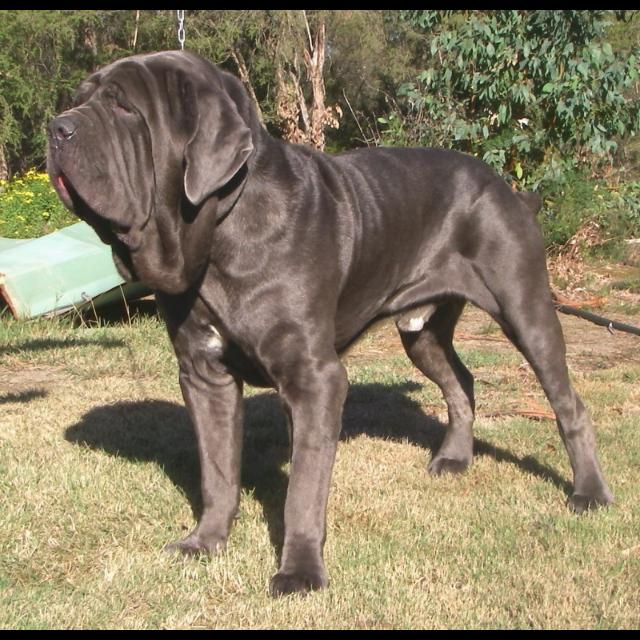mastino_napoletano: (46, 49, 617, 601)
